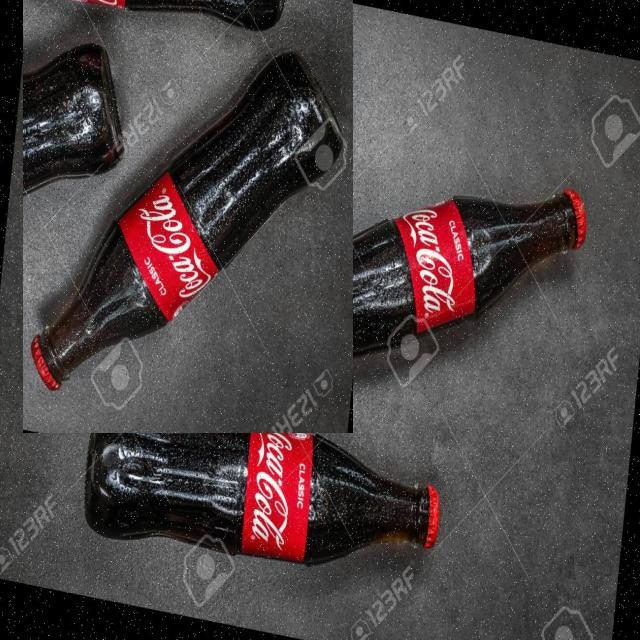coca-cola: (23, 0, 353, 433), (239, 122, 598, 460), (66, 371, 450, 619)
